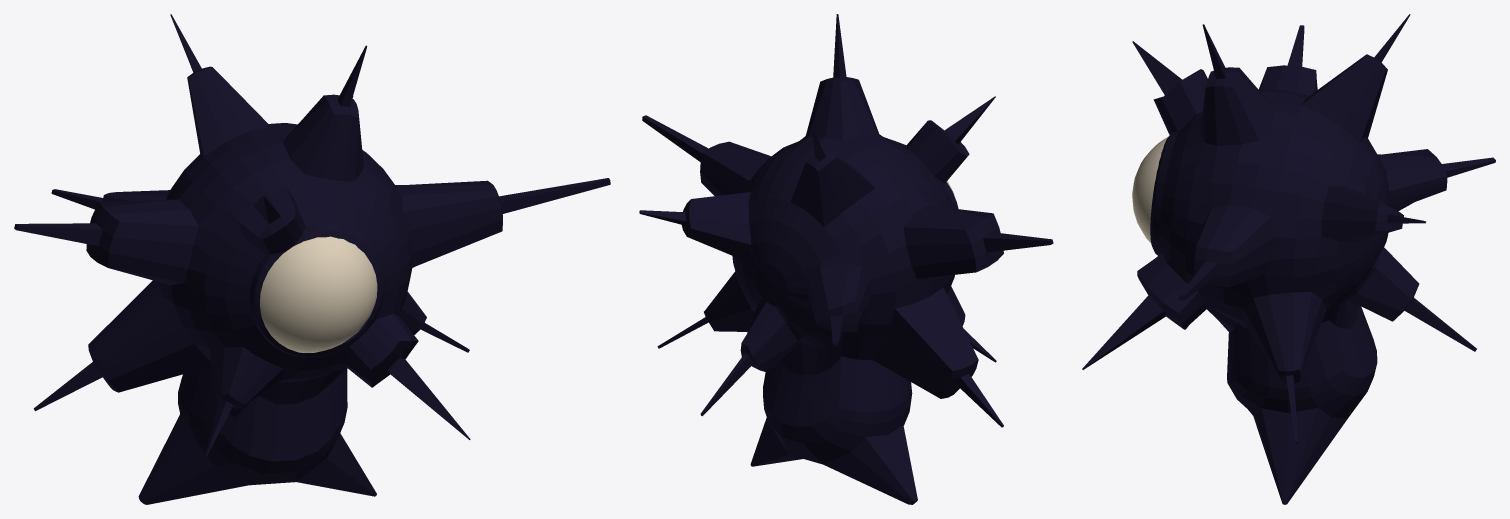
File: Monster Silvan.gltf
3 renders of one model, left to right at view 1: azimuth 30°, elevation 25°; view 2: azimuth 150°, elevation 25°; view 3: azimuth 270°, elevation 25°, orthographic. The views are drawn at different scales.
Visible parts, largest first — view 1: Monster Silvan; view 2: Monster Silvan; view 3: Monster Silvan.
Boxes of the visible parts, <box> form: Monster Silvan: <box>14,14,610,504</box>; Monster Silvan: <box>639,14,1053,504</box>; Monster Silvan: <box>1082,14,1495,504</box>.
Bounding box in the file's own units: 6.44 × 5.74 × 4.71.
Materials: 2 (1 with a texture image).
